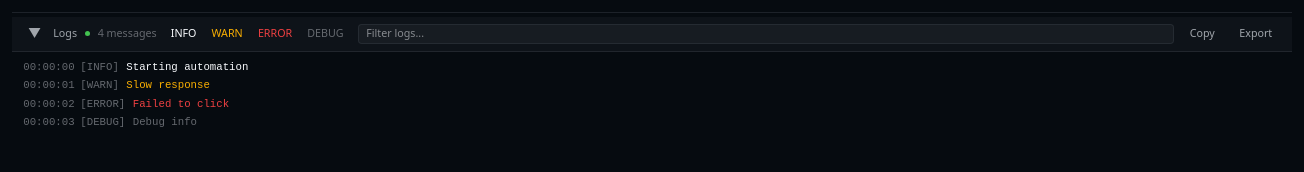
Test: LogViewer › toggling off a level hides messages of that level
Expected: the text "Starting automation" is shown, x1=126 y1=61 x2=248 y2=73
Click the button with test id "level-toggle-INFO".
click(184, 34)  # box x1=164 y1=24 x2=203 y2=43
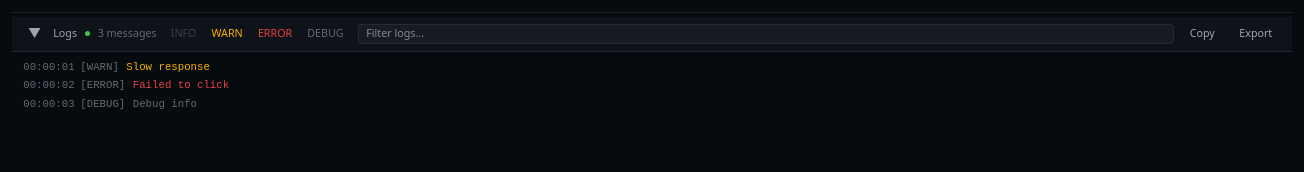
Expected: the text "Starting automation" is gone
Expected: the text "3 messages" is shown, x1=98 y1=25 x2=157 y2=42
